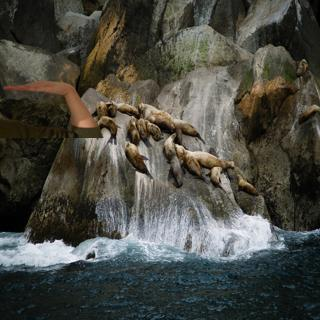WAIT: (1, 76, 72, 98)
